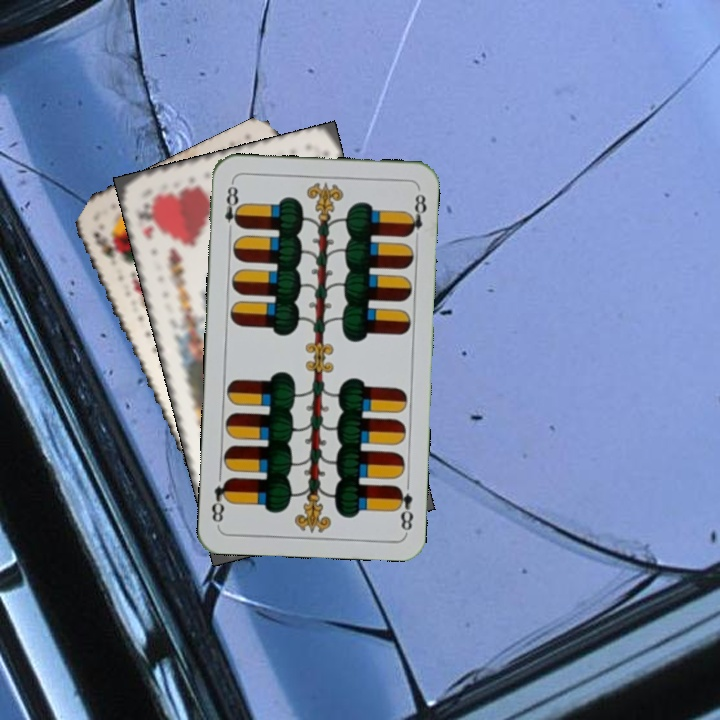E8: (220, 179, 244, 238), (391, 481, 416, 535)
HK: (131, 199, 158, 243)
SK: (89, 228, 121, 268)
